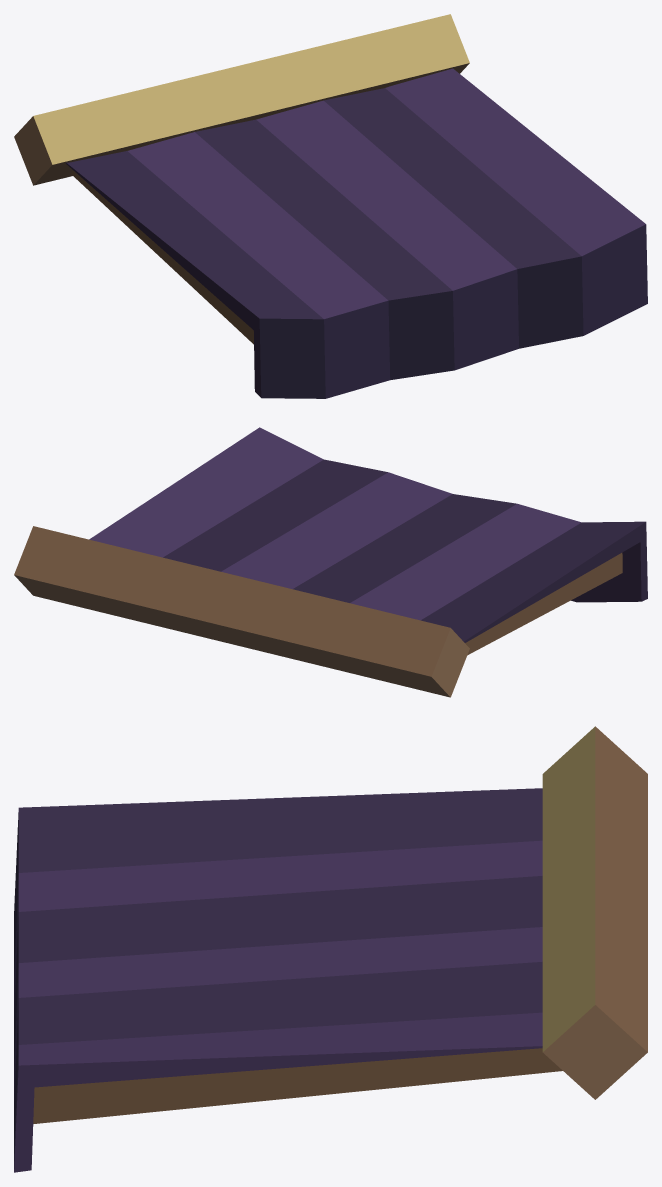
Rendered from TB_D_Bd_Canopy_Str_F.FBX.
3 views of the same model, one above another, from view 1: azimuth 30°, elevation 25°; view 2: azimuth 150°, elevation 25°; view 3: azimuth 270°, elevation 25° (orthographic). The views are drawn at different scales.
Visible parts, largest first — view 1: TB_D_Bd_Canopy_Str_F; view 2: TB_D_Bd_Canopy_Str_F; view 3: TB_D_Bd_Canopy_Str_F.
Part boxes in pixels (x1,y1,x2,y2): TB_D_Bd_Canopy_Str_F: (14,14,647,398); TB_D_Bd_Canopy_Str_F: (14,427,647,697); TB_D_Bd_Canopy_Str_F: (14,726,647,1172).
Bounding box in the file's own units: 1.88 × 0.6442 × 1.81.
